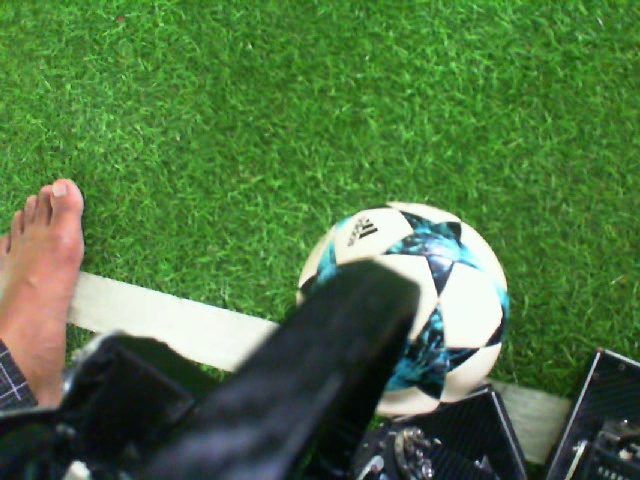ball: (293, 199, 511, 420)
